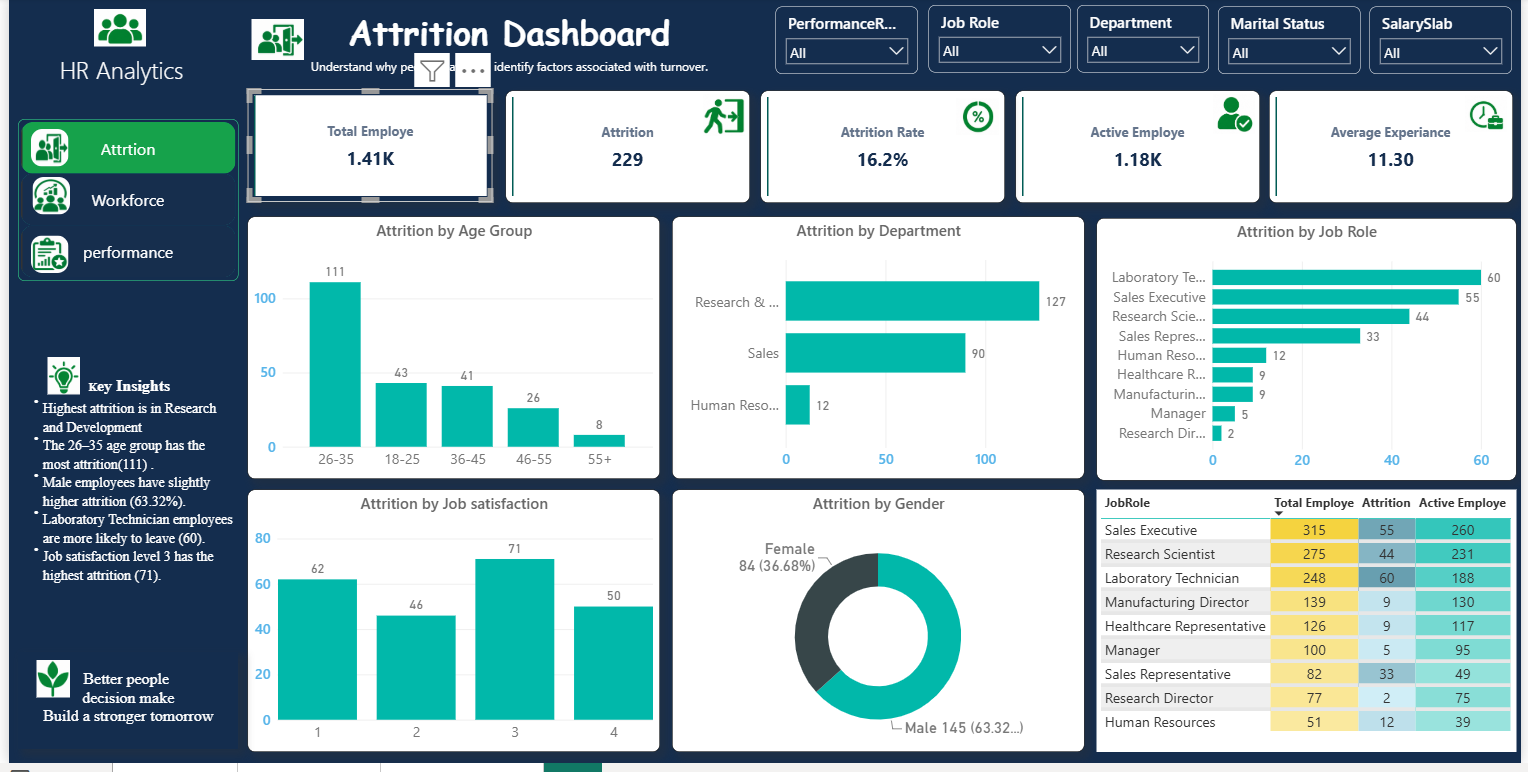

The page's visual inventory and layout, read from the dashboard file:
{"tool":"powerbi","page":{"name":"Attrtion","canvas":[2015,1023],"ordinal":0},"visuals":[{"type":"textbox","title":"Attrition Dashboard","box":[318,16,698,90],"z":0},{"type":"cardVisual","fields":{"Data":["HR_Analytics.Active Employe"]},"box":[1342,126,326,150],"z":1000},{"type":"slicer","fields":{"Values":["HR_Analytics.Department"]},"box":[1424,12,176,90],"z":2000},{"type":"cardVisual","fields":{"Data":["HR_Analytics.Employees Left"]},"box":[662,126,326,150],"z":3000},{"type":"cardVisual","fields":{"Data":["HR_Analytics.Avg Experiance"]},"box":[1680,126,325,150],"z":4000},{"type":"barChart","title":" Attrition by Department","fields":{"Y":["HR_Analytics.Employees Left"],"Category":["HR_Analytics.Department"]},"box":[884,294,550,350],"z":5000},{"type":"columnChart","title":"Attrition  by Age Group","fields":{"Category":["HR_Analytics.AgeGroup"],"Y":["HR_Analytics.Employees Left"]},"box":[318,294,550,350],"z":6000},{"type":"barChart","title":"Attrition  by Job Role","fields":{"Category":["HR_Analytics.JobRole"],"Y":["HR_Analytics.Employees Left"]},"box":[1450,296,560,350],"z":7000},{"type":"cardVisual","fields":{"Data":["HR_Analytics.Attrition Rate"]},"box":[1002,126,326,150],"z":8000},{"type":"clusteredColumnChart","title":"Attrition  by Job satisfaction","fields":{"Category":["HR_Analytics.JobSatisfaction"],"Y":["HR_Analytics.Employees Left"]},"box":[318,658,550,350],"z":9000},{"type":"cardVisual","fields":{"Data":["HR_Analytics.Total Employe"]},"box":[318,124,326,150],"z":10000},{"type":"slicer","fields":{"Values":["HR_Analytics.SalarySlab"]},"box":[1814,14,190,90],"z":11000},{"type":"slicer","fields":{"Values":["HR_Analytics.JobLevel"]},"box":[1612,14,190,90],"z":12000},{"type":"slicer","fields":{"Values":["HR_Analytics.PerformanceRating"]},"box":[1022,14,190,90],"z":13000},{"type":"slicer","fields":{"Values":["HR_Analytics.JobRole"]},"box":[1226,12,190,90],"z":14000},{"type":"pageNavigator","box":[12,164,294,216],"z":15000},{"type":"donutChart","title":"Attrition by Gender","fields":{"Category":["HR_Analytics.Gender"],"Y":["HR_Analytics.Employees Left"]},"box":[884,658,550,350],"z":16000},{"type":"textbox","box":[12,14,276,110],"z":17000},{"type":"textbox","box":[12,874,294,130],"z":18000},{"type":"image","box":[108,12,80,60],"z":19000},{"type":"image","box":[26,880,66,60],"z":20000},{"type":"image","box":[318,14,80,88],"z":21000},{"type":"textbox","box":[12,482,294,352],"z":22000},{"type":"tableEx","fields":{"Values":["HR_Analytics.JobRole","HR_Analytics.Total Employe","HR_Analytics.Attrition Count","HR_Analytics.Active Employe"]},"box":[1450,658,560,350],"z":23000},{"type":"image","box":[574,130,66,66],"z":24000},{"type":"image","box":[920,126,66,66],"z":25000},{"type":"image","box":[1258,128,66,66],"z":26000},{"type":"image","box":[1600,124,66,66],"z":27000},{"type":"image","box":[1936,124,66,66],"z":28000},{"type":"image","box":[24,172,60,60],"z":29000},{"type":"image","box":[24,314,60,60],"z":30000},{"type":"image","box":[26,236,60,60],"z":31000},{"type":"image","box":[40,476,66,60],"z":32000}]}

Visuals, with their boxes on the page's 2015x1023 design canvas (x1, y1, x2, y2). These are canvas units, not pixel positions in the 1528x772 screenshot, which may show the page scaled, cropped or inside an application window:
"Attrition Dashboard" textbox: <region>318, 16, 1016, 106</region>
cardVisual - HR_Analytics.Active Employe: <region>1342, 126, 1668, 276</region>
slicer - HR_Analytics.Department: <region>1424, 12, 1600, 102</region>
cardVisual - HR_Analytics.Employees Left: <region>662, 126, 988, 276</region>
cardVisual - HR_Analytics.Avg Experiance: <region>1680, 126, 2005, 276</region>
" Attrition by Department" barChart: <region>884, 294, 1434, 644</region>
"Attrition  by Age Group" columnChart: <region>318, 294, 868, 644</region>
"Attrition  by Job Role" barChart: <region>1450, 296, 2010, 646</region>
cardVisual - HR_Analytics.Attrition Rate: <region>1002, 126, 1328, 276</region>
"Attrition  by Job satisfaction" clusteredColumnChart: <region>318, 658, 868, 1008</region>
cardVisual - HR_Analytics.Total Employe: <region>318, 124, 644, 274</region>
slicer - HR_Analytics.SalarySlab: <region>1814, 14, 2004, 104</region>
slicer - HR_Analytics.JobLevel: <region>1612, 14, 1802, 104</region>
slicer - HR_Analytics.PerformanceRating: <region>1022, 14, 1212, 104</region>
slicer - HR_Analytics.JobRole: <region>1226, 12, 1416, 102</region>
pageNavigator: <region>12, 164, 306, 380</region>
"Attrition by Gender" donutChart: <region>884, 658, 1434, 1008</region>
textbox: <region>12, 14, 288, 124</region>
textbox: <region>12, 874, 306, 1004</region>
image: <region>108, 12, 188, 72</region>
image: <region>26, 880, 92, 940</region>
image: <region>318, 14, 398, 102</region>
textbox: <region>12, 482, 306, 834</region>
tableEx - HR_Analytics.JobRole x HR_Analytics.Total Employe: <region>1450, 658, 2010, 1008</region>
image: <region>574, 130, 640, 196</region>
image: <region>920, 126, 986, 192</region>
image: <region>1258, 128, 1324, 194</region>
image: <region>1600, 124, 1666, 190</region>
image: <region>1936, 124, 2002, 190</region>
image: <region>24, 172, 84, 232</region>
image: <region>24, 314, 84, 374</region>
image: <region>26, 236, 86, 296</region>
image: <region>40, 476, 106, 536</region>
